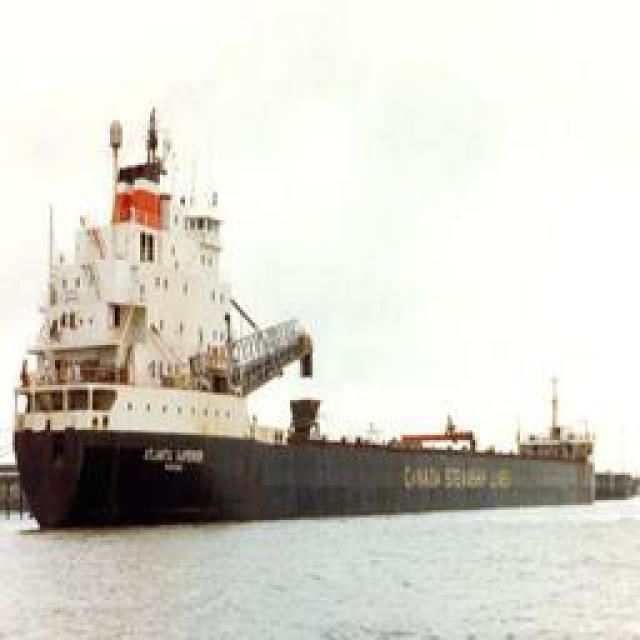Ship: (14, 99, 324, 524)
